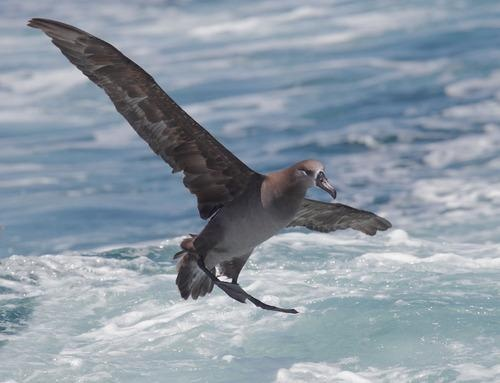bird: (28, 17, 391, 314)
